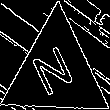N_SE: (30, 40, 83, 104)
